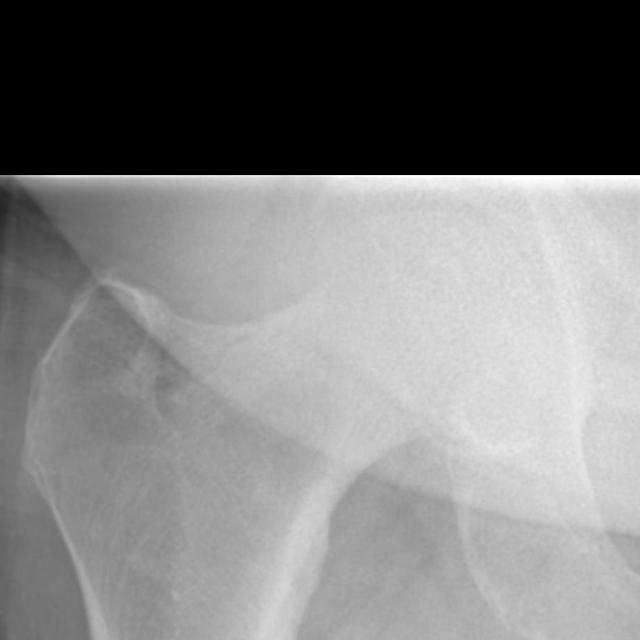Fitted_femural_head: (242, 220, 432, 242)
